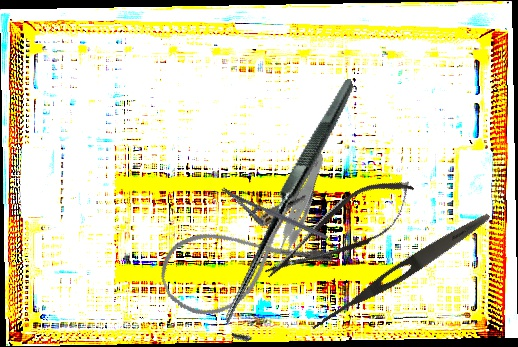Cannula: (150, 190, 337, 329)
Dressing Forceps: (306, 207, 494, 339)
Hook Surgical: (157, 78, 430, 346)
Micro Scissor: (253, 164, 427, 298)
Needle Holder: (214, 186, 329, 254)
Tissue Forceps: (231, 152, 360, 271)
